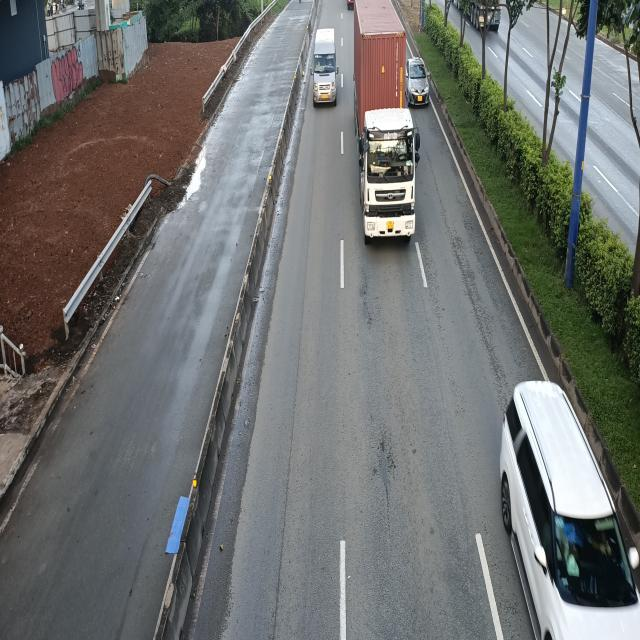car: (498, 386, 639, 640), (407, 57, 431, 107)
container: (356, 4, 424, 248)
van: (314, 30, 341, 110)
